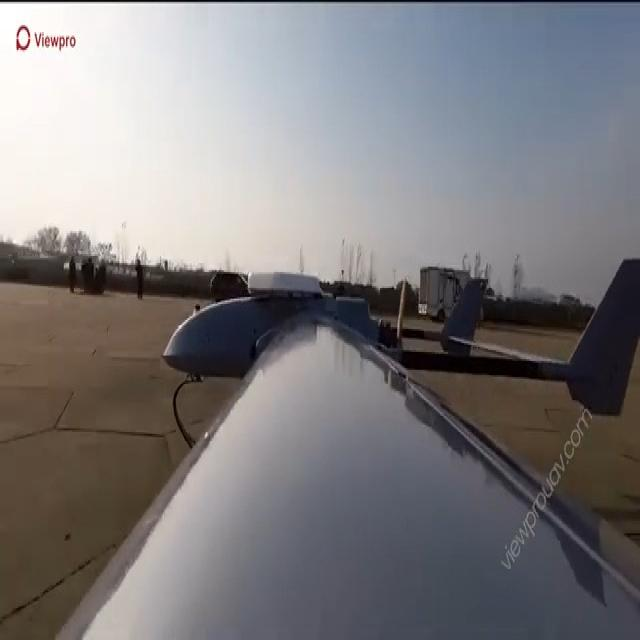drones: (147, 265, 640, 640)
